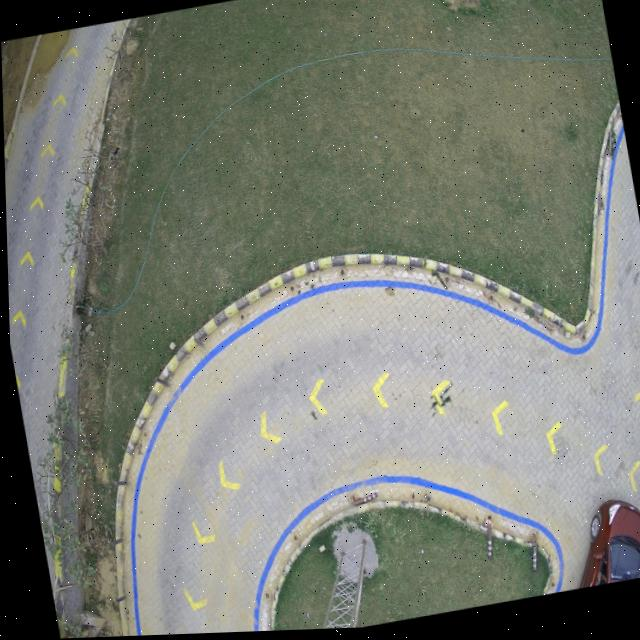car: (576, 504, 640, 592)
